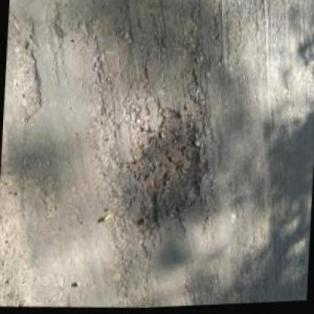Hueco: (127, 105, 209, 228), (10, 43, 47, 119)
